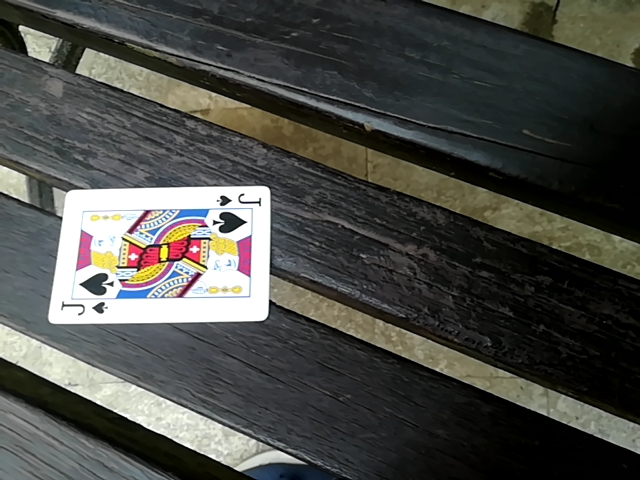ht j: (40, 184, 271, 328)
